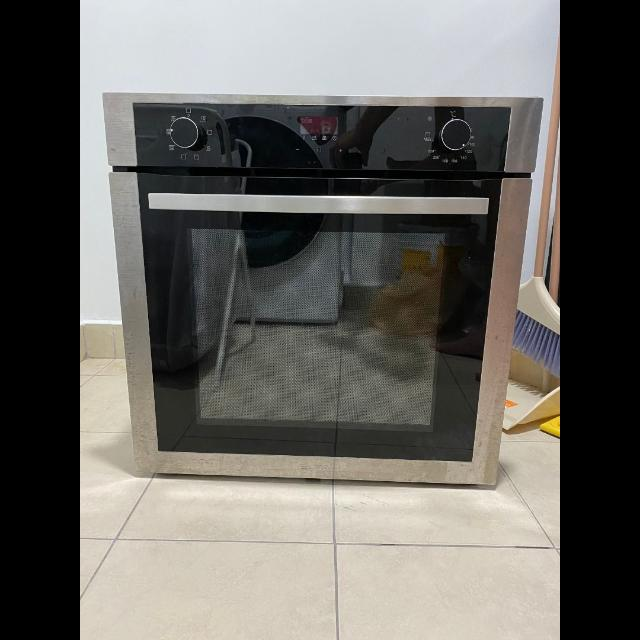Oven: (103, 90, 527, 484)
